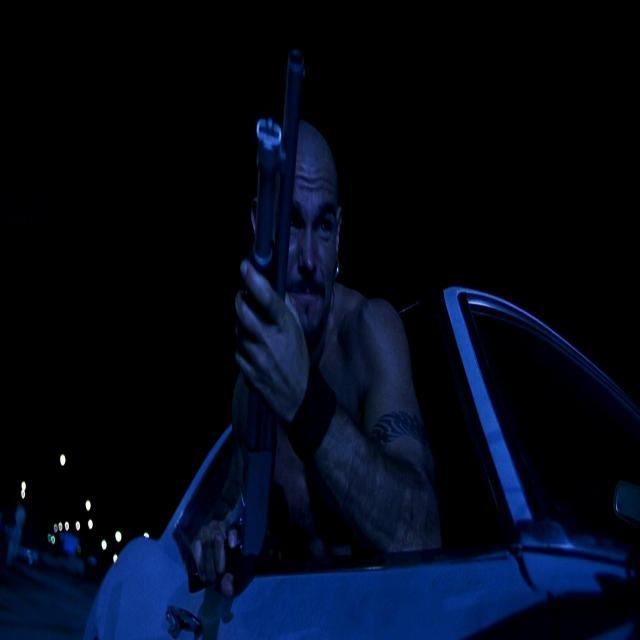gun-knife-thesis - v11 Yolov5 augmented: (179, 48, 308, 596)
